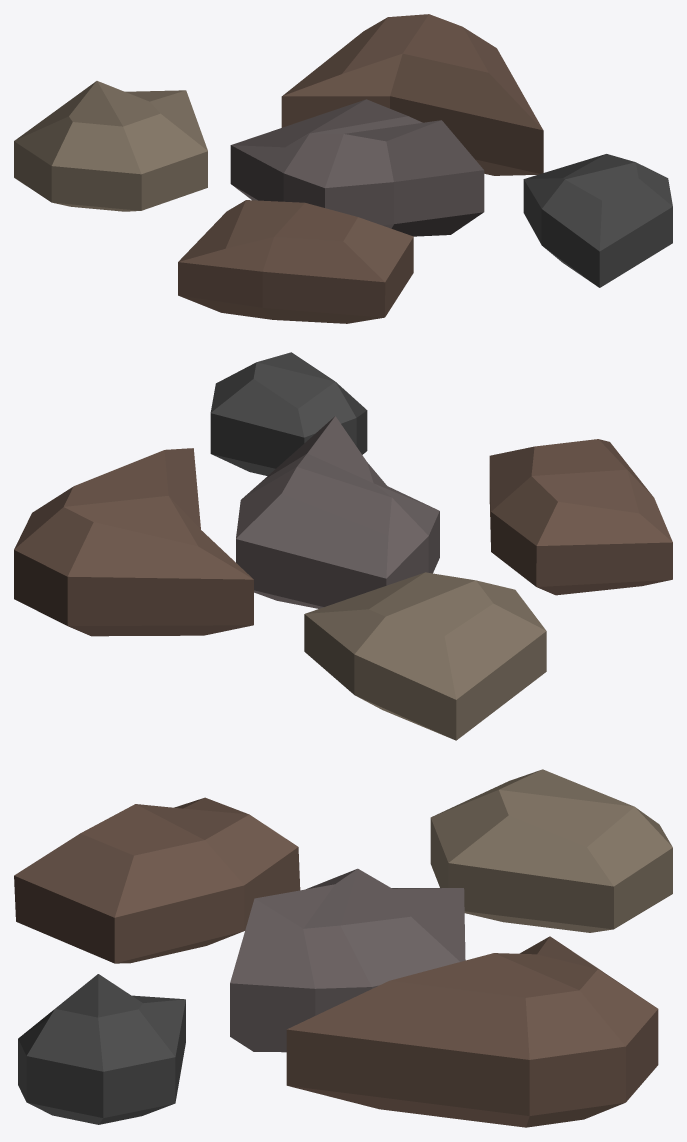
File: Mushroom_Stone_03.fbx
The picture shows the model from 3 angles, top to bottom: view 1: azimuth 30°, elevation 25°; view 2: azimuth 150°, elevation 25°; view 3: azimuth 270°, elevation 25°; orthographic projection. The views are drawn at different scales.
Visible parts, largest first — view 1: Vege_Stone_03; view 2: Vege_Stone_03; view 3: Vege_Stone_03.
Boxes of the visible parts, x1=… form: Vege_Stone_03: x1=14, y1=14, x2=672, y2=323; Vege_Stone_03: x1=14, y1=352, x2=672, y2=740; Vege_Stone_03: x1=14, y1=769, x2=672, y2=1127.
Size of the model in its own units: 82.67 by 22.33 by 81.48.
